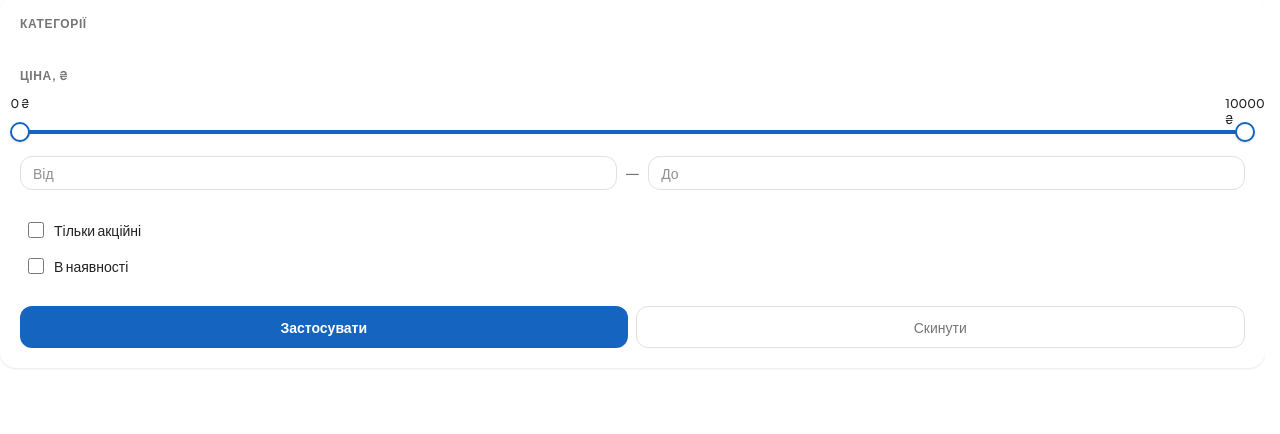
Test: FilterSidebar › clamps max input to not go below min
This screenshot has width=1280, height=434.
# First set min to 3000
In the number field with placeholder "Від": (318, 173) 20,156 -> 617,190, type "3000"
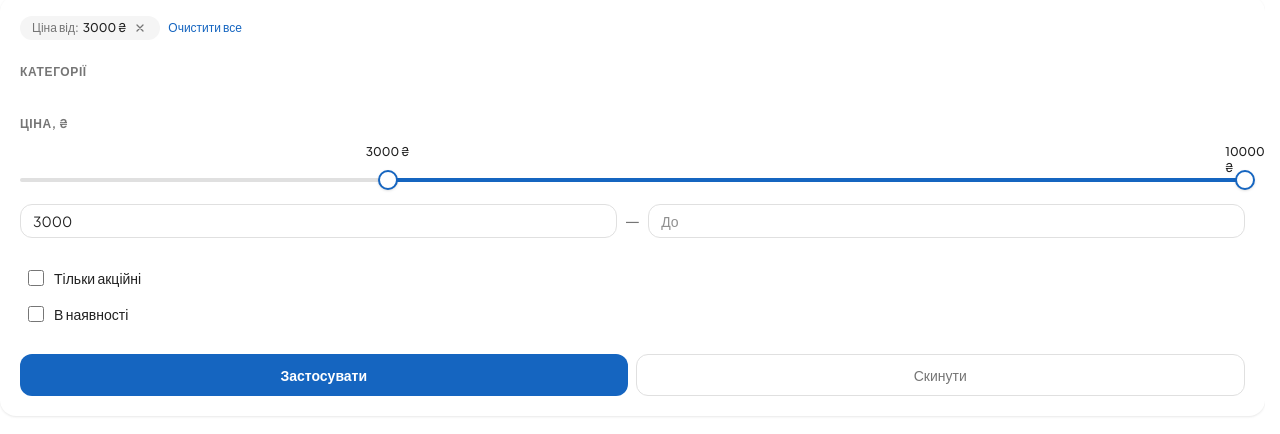
# Then set max to 1000 - should be clamped to 3000
In the number field with placeholder "До": (947, 221) 648,204 -> 1245,238, type "1000"
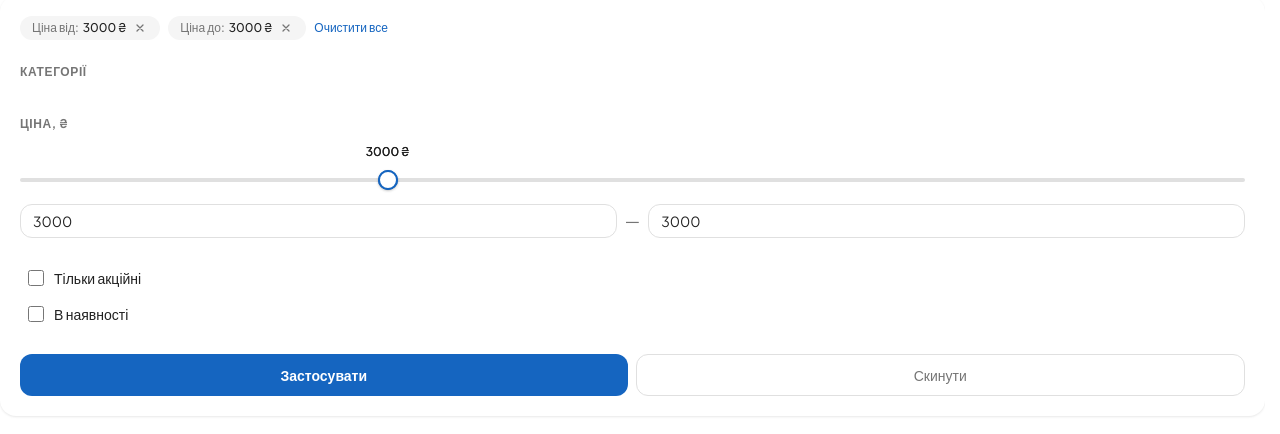
Expected: the number field named "Максимальна ціна" holds "3000", 648,204 -> 1245,238
